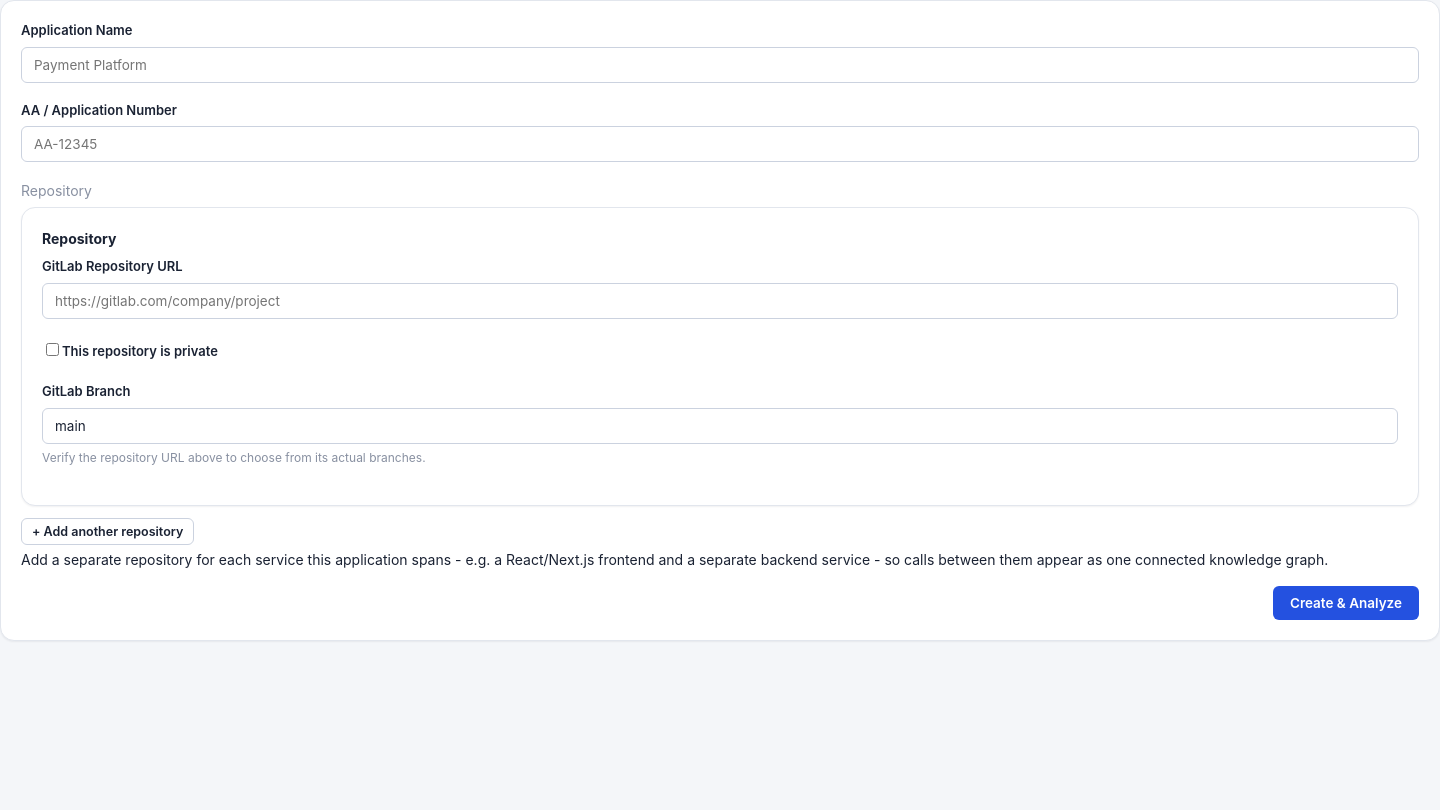
it: ApplicationForm › rejects a repository URL that isn't a plausible GitLab URL
Type "X" into the field labelled "Application Name" at (720, 64), box [21,46,1419,82]
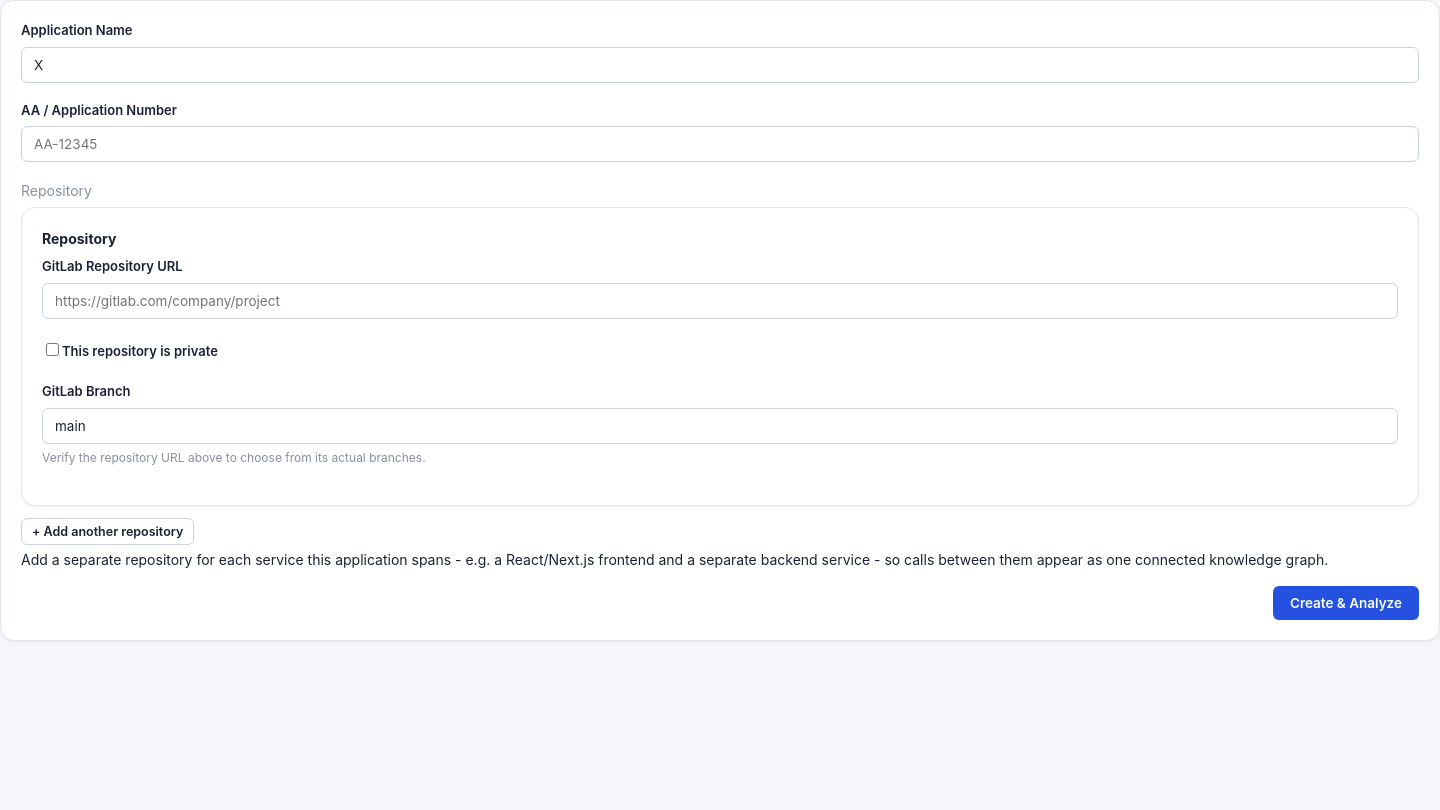
Type "AA-1" into the field labelled "AA / Application Number" at (720, 144), box [21,126,1419,162]
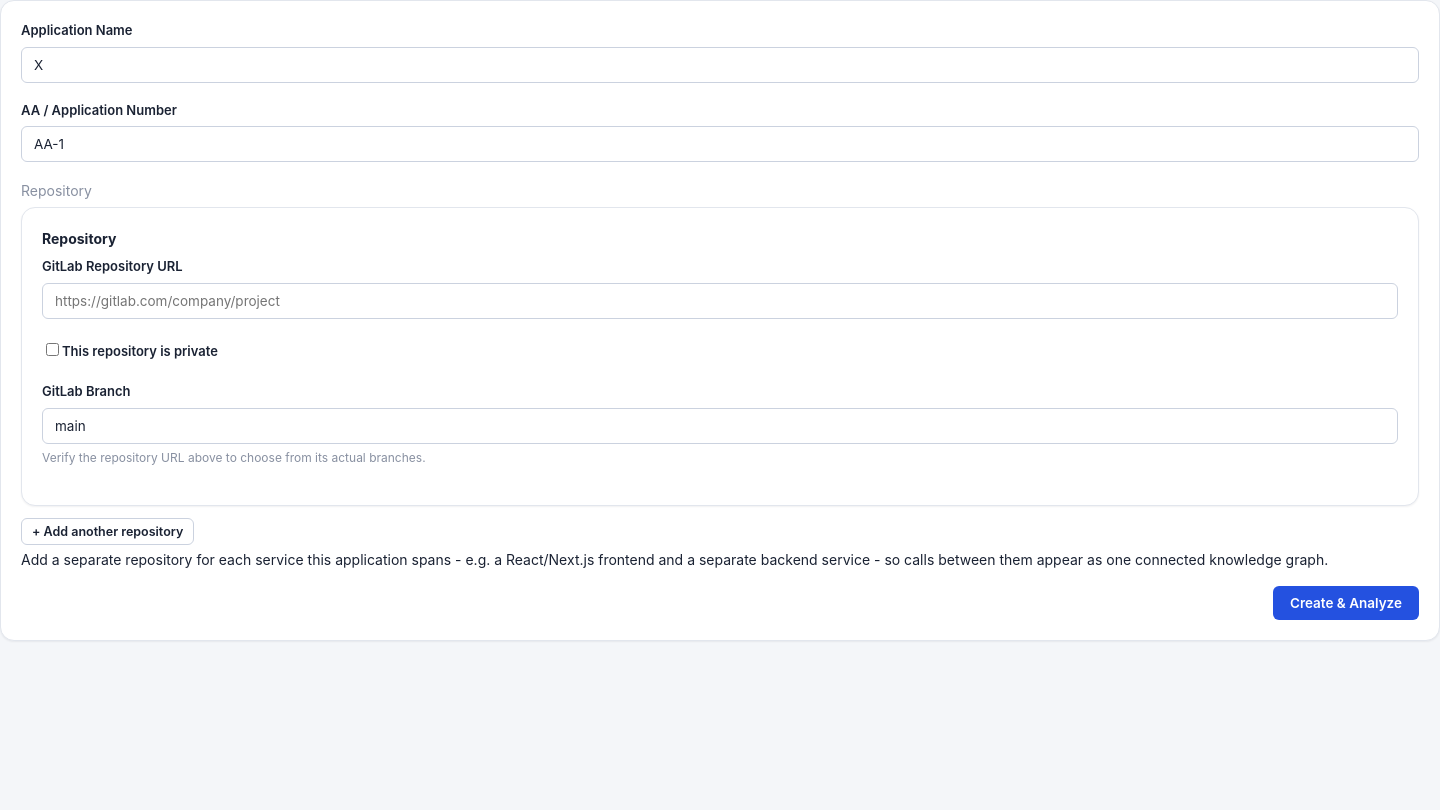
Type "not-a-url" into the field labelled "GitLab Repository URL" at (720, 300), box [42,282,1398,318]
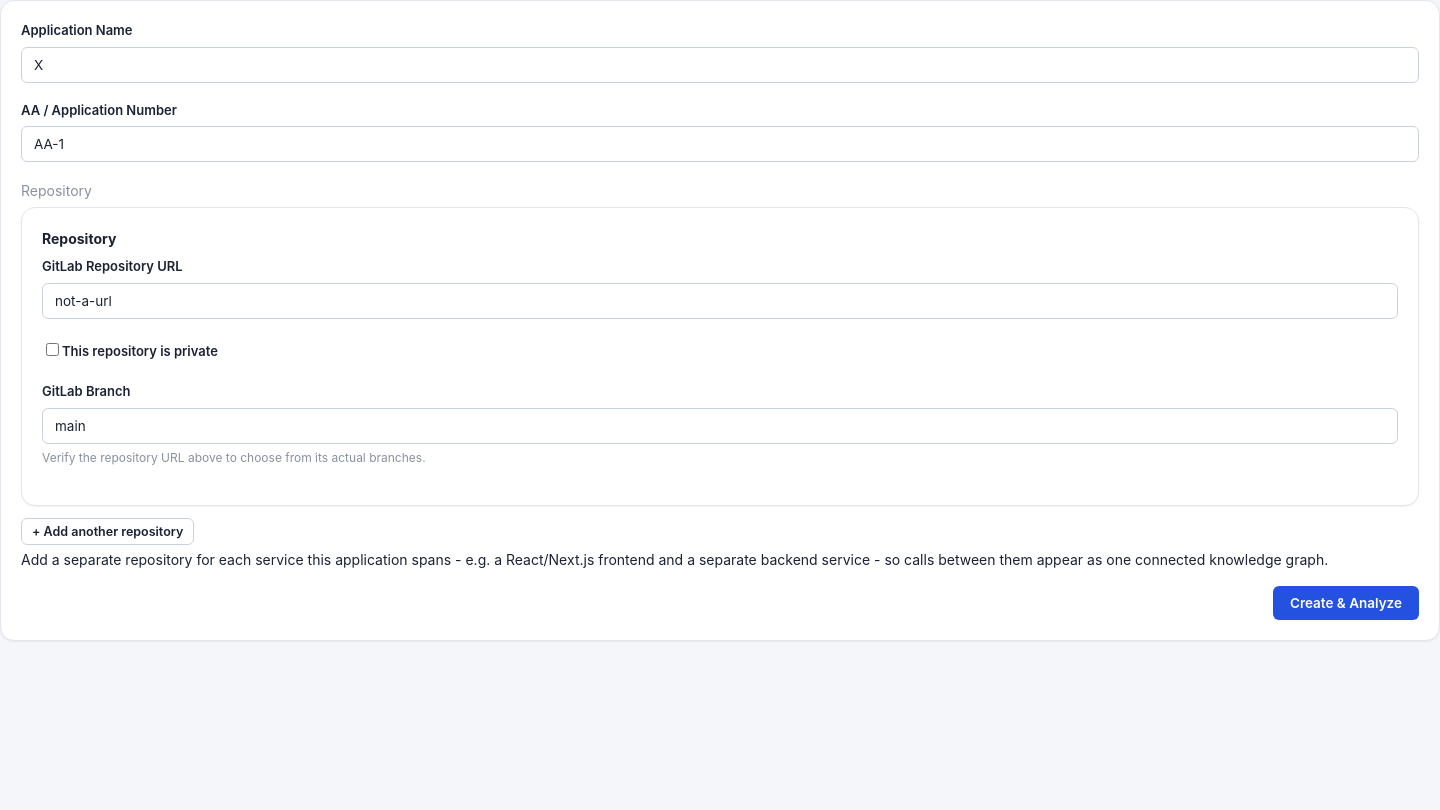
Click the button "Create & Analyze" at (1346, 603), box [1273,586,1419,620]
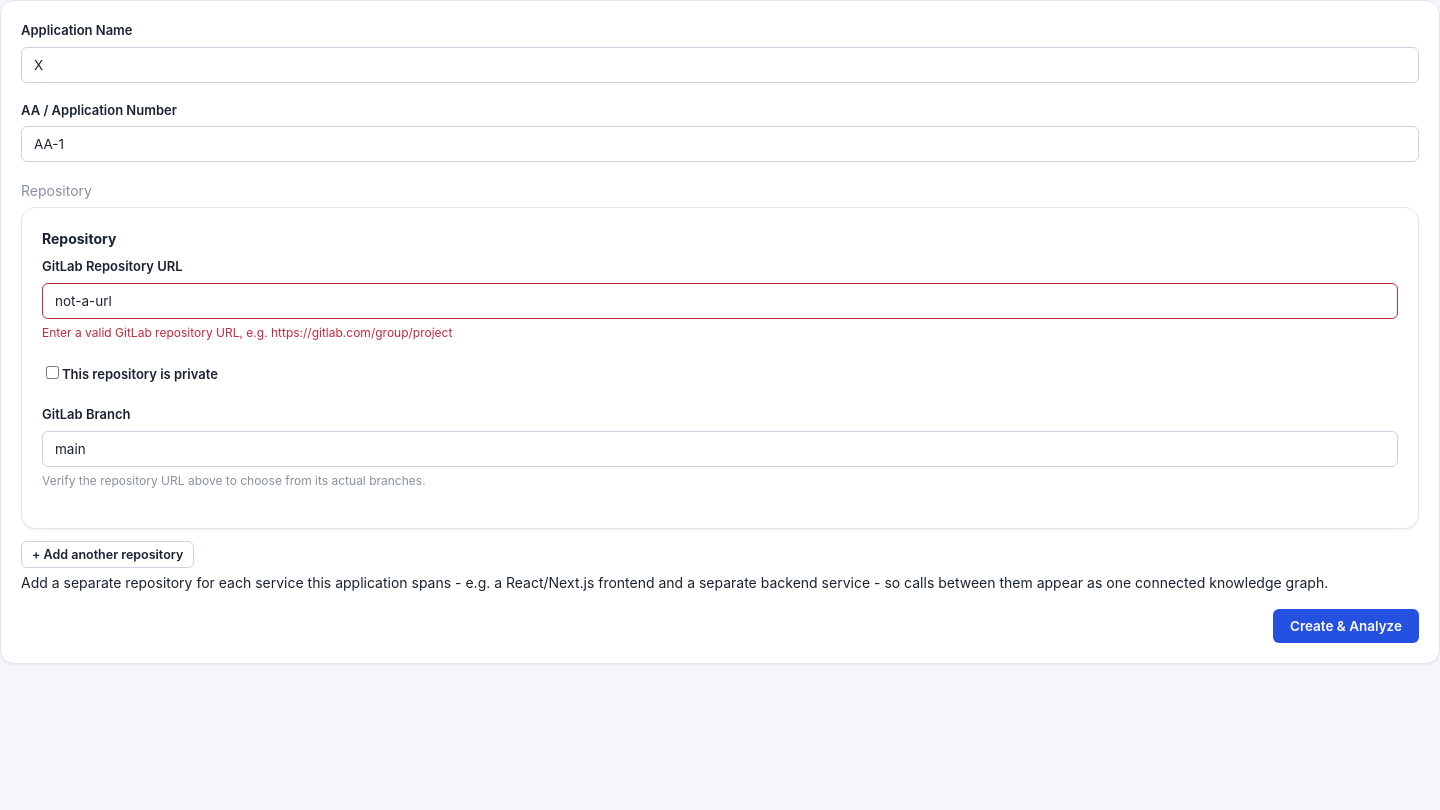
expect the text "Enter a valid GitLab repository URL, e.g. https://gitlab.com/group/project" is shown: met, box [42,324,452,340]
